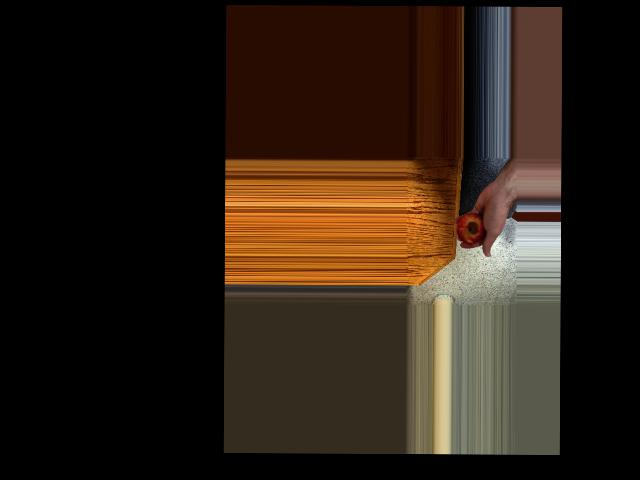apple: (456, 207, 487, 246)
